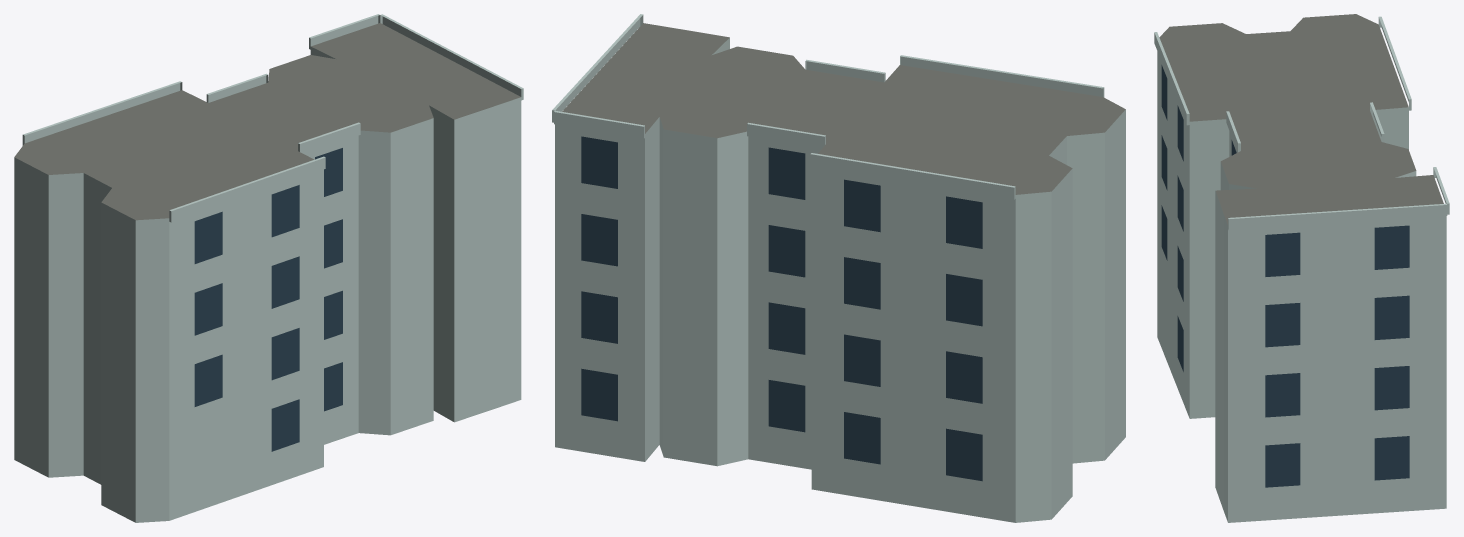
The picture shows the model from 3 angles, left to right: view 1: azimuth 30°, elevation 25°; view 2: azimuth 150°, elevation 25°; view 3: azimuth 270°, elevation 25°; orthographic projection. The views are drawn at different scales.
Visible parts, largest first — view 1: Footprint 0 / surface 2, Footprint 0 / surface 1, Inset glazing, Facade bay volumes; view 2: Footprint 0 / surface 2, Footprint 0 / surface 1, Inset glazing, Facade bay volumes; view 3: Footprint 0 / surface 2, Footprint 0 / surface 1, Inset glazing, Facade bay volumes.
Part boxes in pixels (box(x1,y1,x2,y2)): Footprint 0 / surface 2: box(14, 47, 521, 522); Footprint 0 / surface 1: box(14, 23, 520, 220); Inset glazing: box(194, 148, 342, 451); Facade bay volumes: box(22, 14, 523, 222); Footprint 0 / surface 2: box(555, 38, 1125, 522); Footprint 0 / surface 1: box(562, 23, 1125, 194); Inset glazing: box(581, 136, 982, 481); Facade bay volumes: box(552, 14, 1104, 199); Footprint 0 / surface 2: box(1157, 51, 1446, 522); Footprint 0 / surface 1: box(1159, 14, 1443, 224); Inset glazing: box(1161, 65, 1409, 487); Facade bay volumes: box(1154, 16, 1449, 230).
Size of the model in its own units: 20.54 by 13.71 by 12.04.
